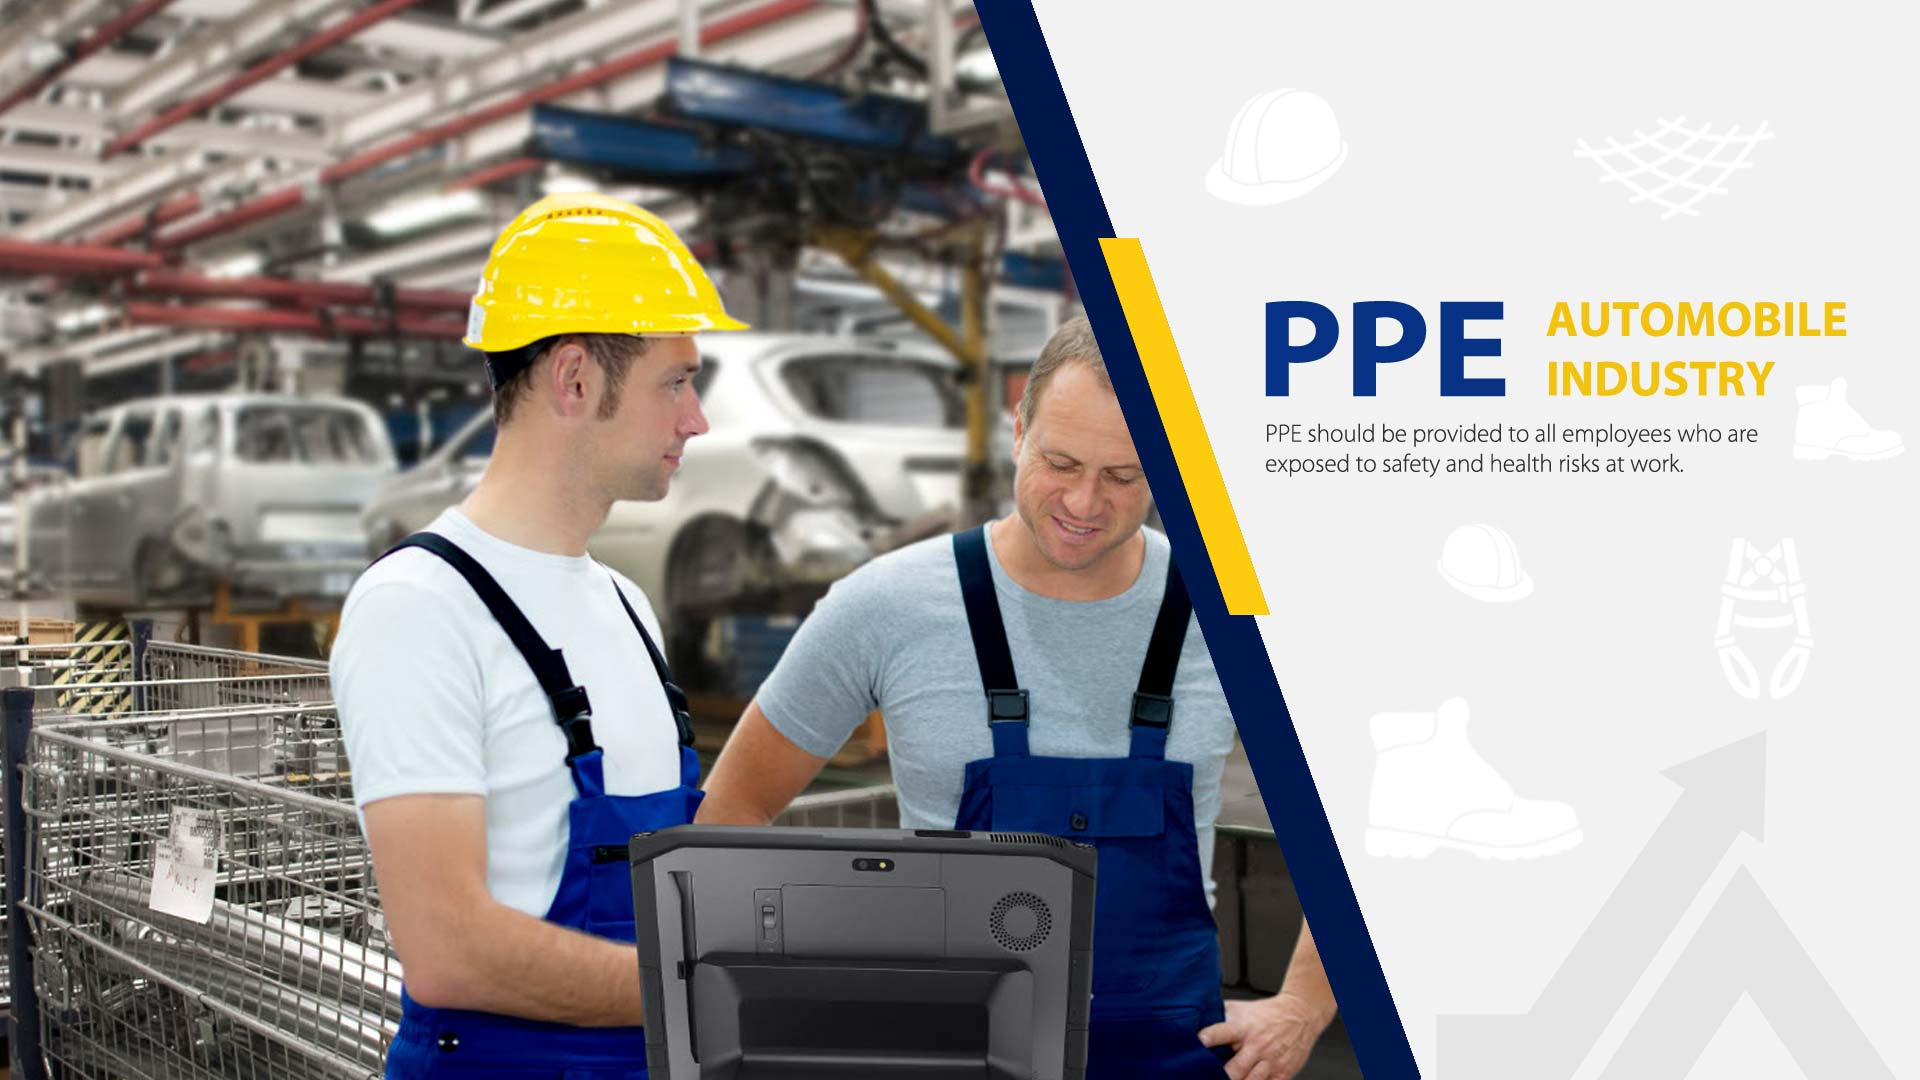Hard Hat: (442, 193, 753, 343)
